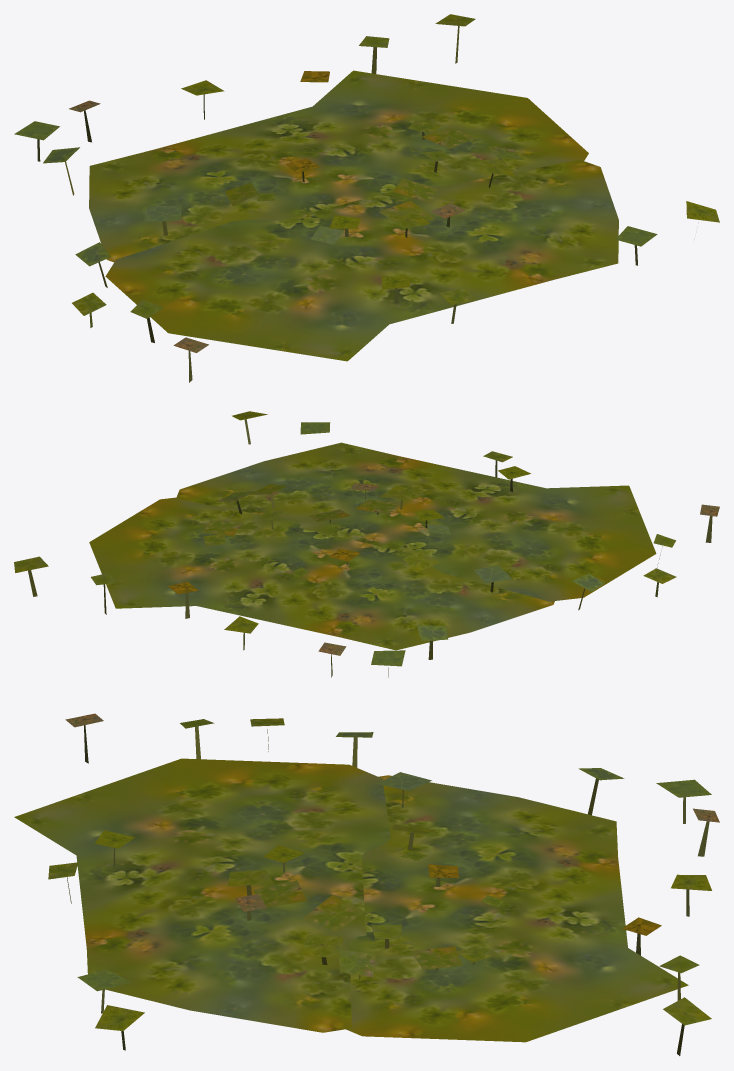
The model's file is Clover_01_Var1.FBX.
The picture shows the model from 3 angles, top to bottom: view 1: azimuth 30°, elevation 25°; view 2: azimuth 150°, elevation 25°; view 3: azimuth 270°, elevation 25°; orthographic projection. The views are drawn at different scales.
Parts seen in each view (by area): view 1: Clovers_01_Var1_Lod0; view 2: Clovers_01_Var1_Lod0; view 3: Clovers_01_Var1_Lod0.
Boxes of the visible parts, <box> form: Clovers_01_Var1_Lod0: <box>14,14,719,382</box>; Clovers_01_Var1_Lod0: <box>14,411,719,677</box>; Clovers_01_Var1_Lod0: <box>14,713,719,1055</box>.
Size of what is drawn, in the model's own units: 47.45 by 3.31 by 43.77.
